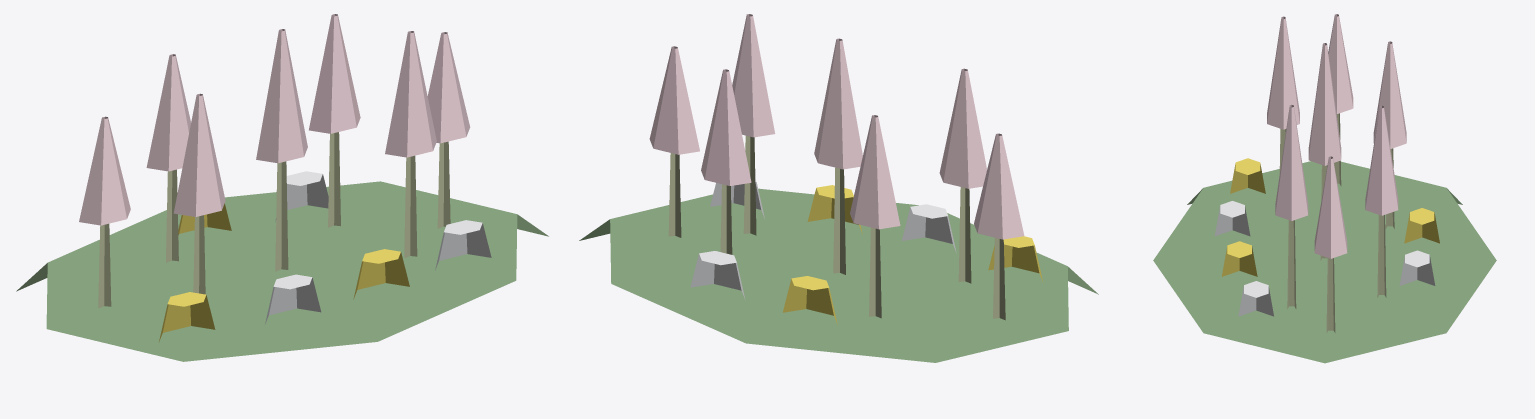
Rendered from flora_24_pink_pampas_co_lau_hong_and_dandelion_doi_da_phu_cluster.glb.
3 renders of one model, left to right at view 1: azimuth 30°, elevation 25°; view 2: azimuth 150°, elevation 25°; view 3: azimuth 270°, elevation 25°, orthographic. The views are drawn at different scales.
Visible parts, largest first — view 1: flora_24_pink_pampas_co_lau_hong_and_dandelion_doi_da_phu_cl; view 2: flora_24_pink_pampas_co_lau_hong_and_dandelion_doi_da_phu_cl; view 3: flora_24_pink_pampas_co_lau_hong_and_dandelion_doi_da_phu_cl.
Boxes of the visible parts, box(x1,y1,x2,y2) form: flora_24_pink_pampas_co_lau_hong_and_dandelion_doi_da_phu_cl: box(16, 14, 548, 361); flora_24_pink_pampas_co_lau_hong_and_dandelion_doi_da_phu_cl: box(579, 14, 1098, 362); flora_24_pink_pampas_co_lau_hong_and_dandelion_doi_da_phu_cl: box(1153, 14, 1496, 363).
Bounding box in the file's own units: 3.4 × 1.65 × 2.4.
